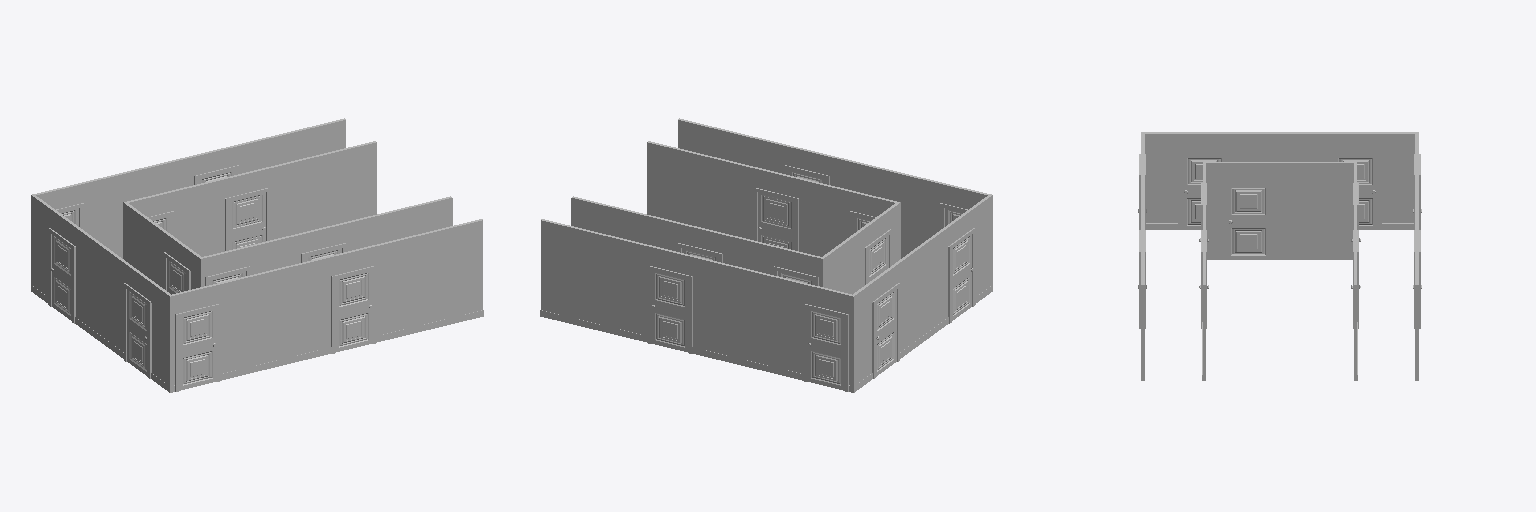
The model's file is Corredor_em_U.obj.
3 renders of one model, left to right at view 1: azimuth 30°, elevation 25°; view 2: azimuth 150°, elevation 25°; view 3: azimuth 270°, elevation 25°, orthographic.
Parts seen in each view (by area): view 1: Corredor_em_L3; view 2: Corredor_em_L3; view 3: Corredor_em_L3.
Part boxes in pixels (bbox=[...]): Corredor_em_L3: bbox=[31, 118, 483, 392]; Corredor_em_L3: bbox=[540, 118, 992, 392]; Corredor_em_L3: bbox=[1138, 132, 1421, 380].
Bounding box in the file's own units: 20.5 × 5.97 × 15.95.